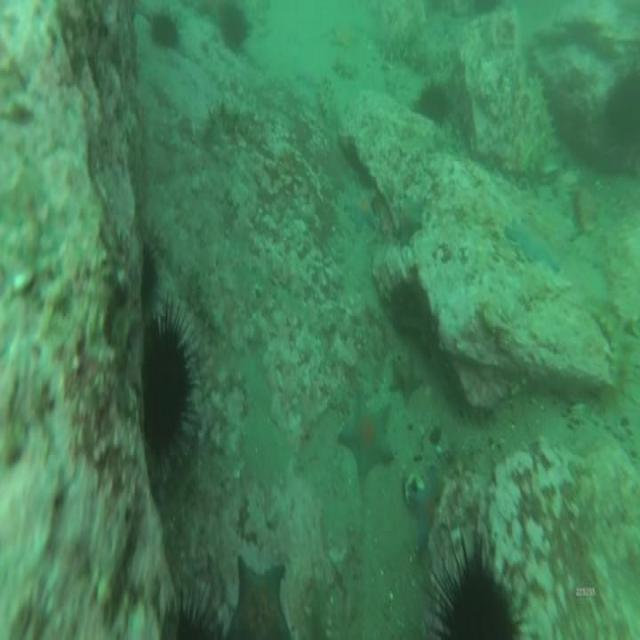echinus: (439, 556, 510, 638), (148, 326, 188, 456), (387, 272, 440, 352), (140, 242, 161, 310), (220, 6, 248, 52), (153, 13, 183, 52), (422, 84, 452, 123)
holothurian: (596, 320, 638, 416), (532, 76, 562, 153), (210, 104, 266, 144), (318, 73, 341, 131), (415, 41, 455, 74), (377, 27, 410, 60), (334, 52, 356, 79)
starfish: (231, 558, 288, 640), (346, 389, 394, 482), (508, 217, 562, 266), (413, 474, 440, 552), (346, 190, 380, 230), (393, 354, 420, 403), (401, 199, 423, 239), (331, 22, 358, 49)
